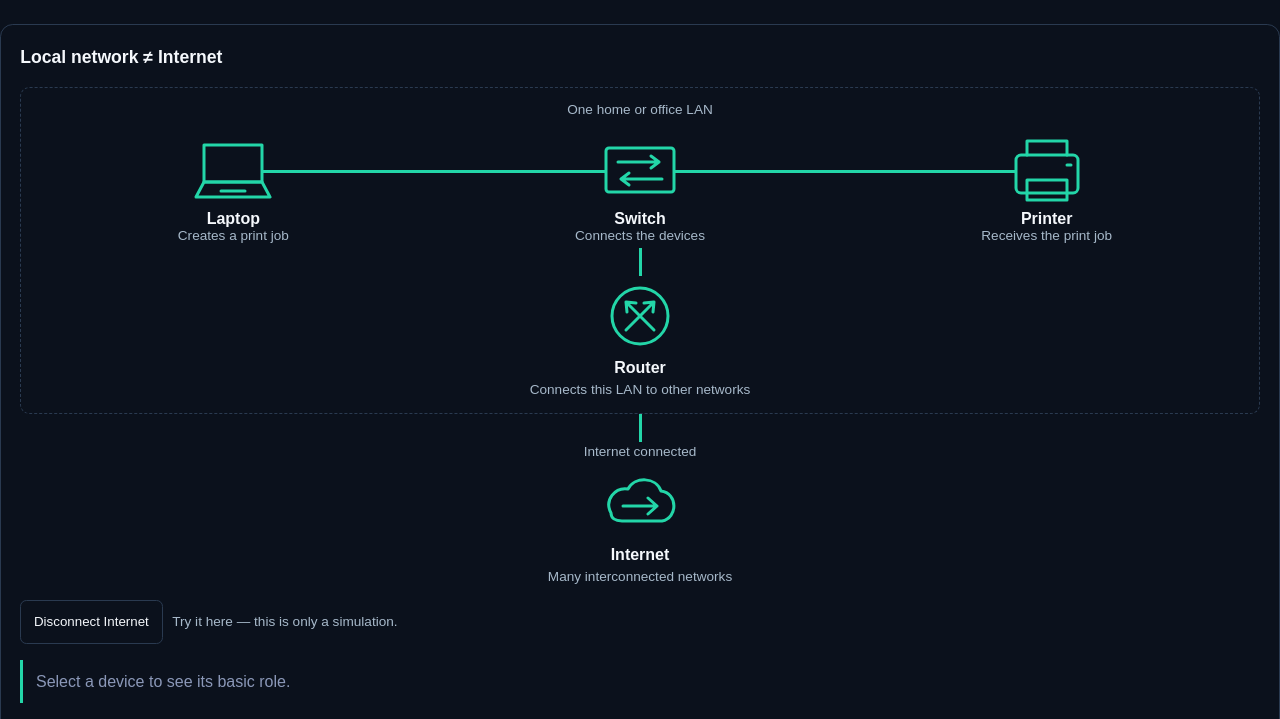
it: NetworkBasicsDiagram › disconnects only the simulated Internet connection and can reconnect it
This screenshot has width=1280, height=719.
Click the button "Disconnect Internet" at (91, 622), box [20, 600, 163, 644]
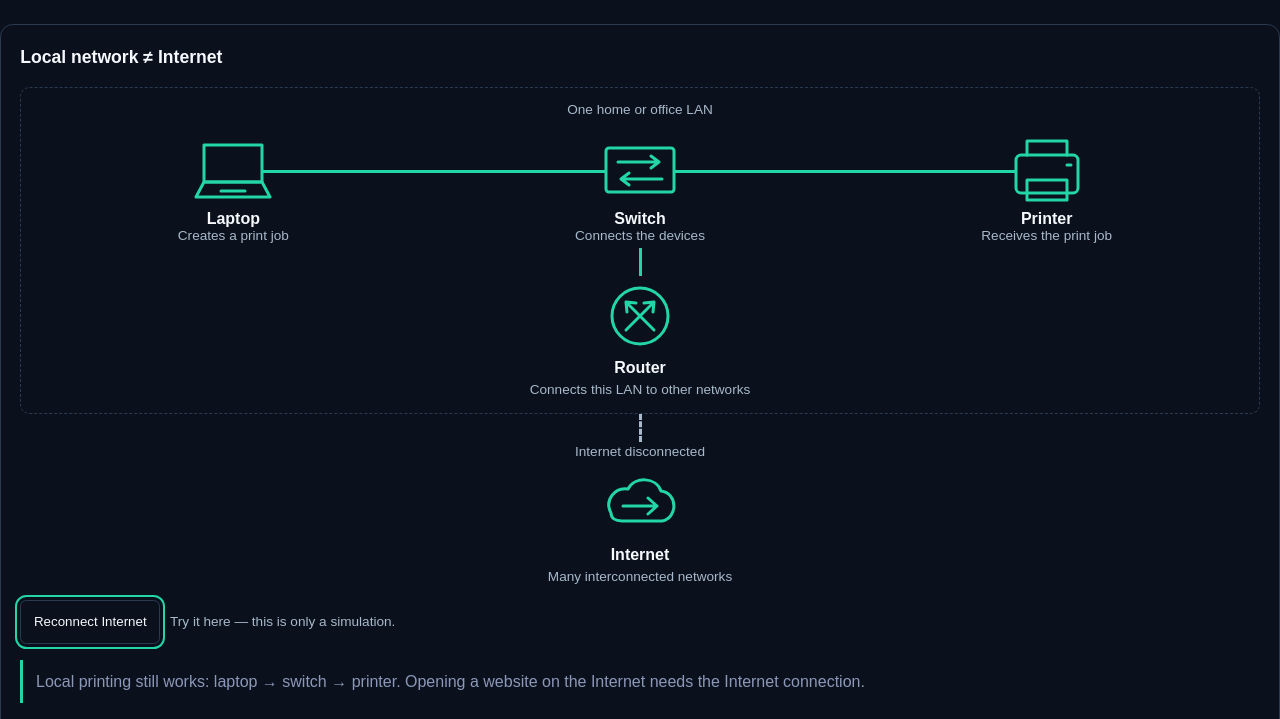
Expected: the button with aria-label "Explain Printer" is shown, [847, 130, 1246, 248]
Result: the message shows "Local printing still works" at [36, 672, 865, 690]
Result: the text "Internet disconnected" is shown at [575, 442, 705, 463]
Click the button "Reconnect Internet" at (90, 622), box [20, 600, 160, 644]
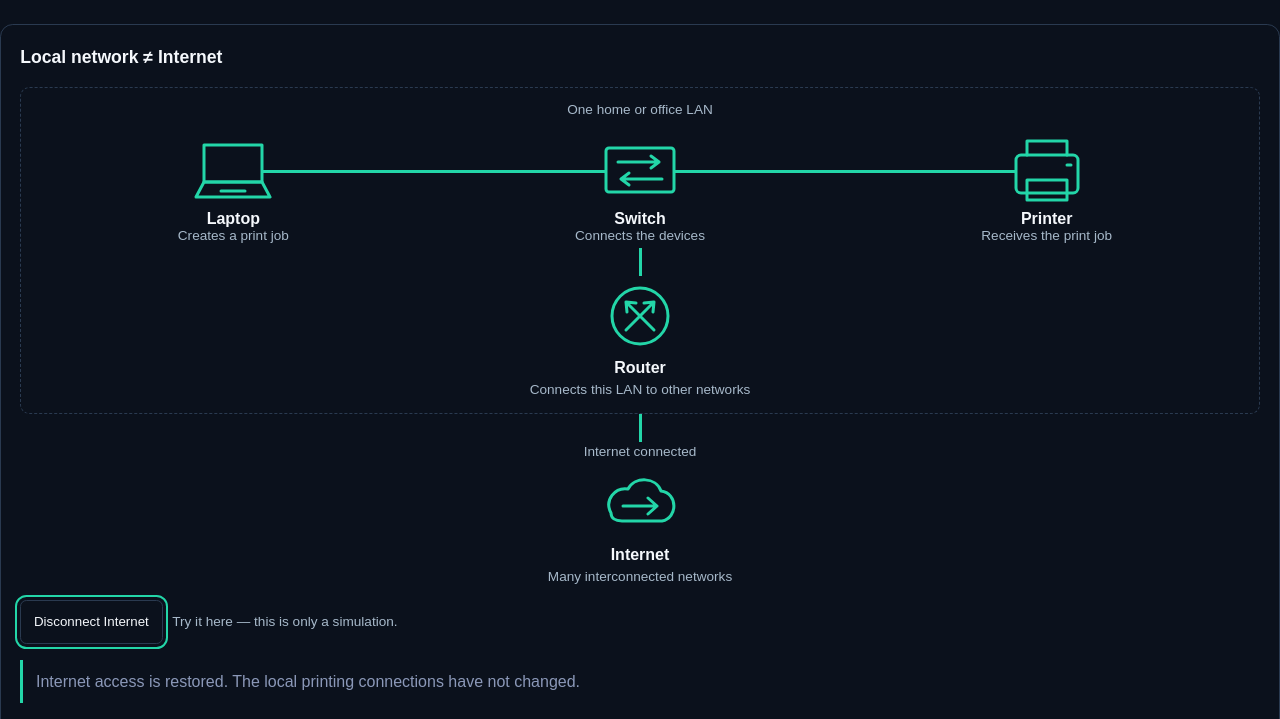
Result: the text "Internet connected" is shown at [584, 442, 696, 463]
